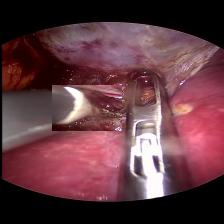Grasper: (100, 65, 186, 204)
Hook: (51, 85, 121, 131)
